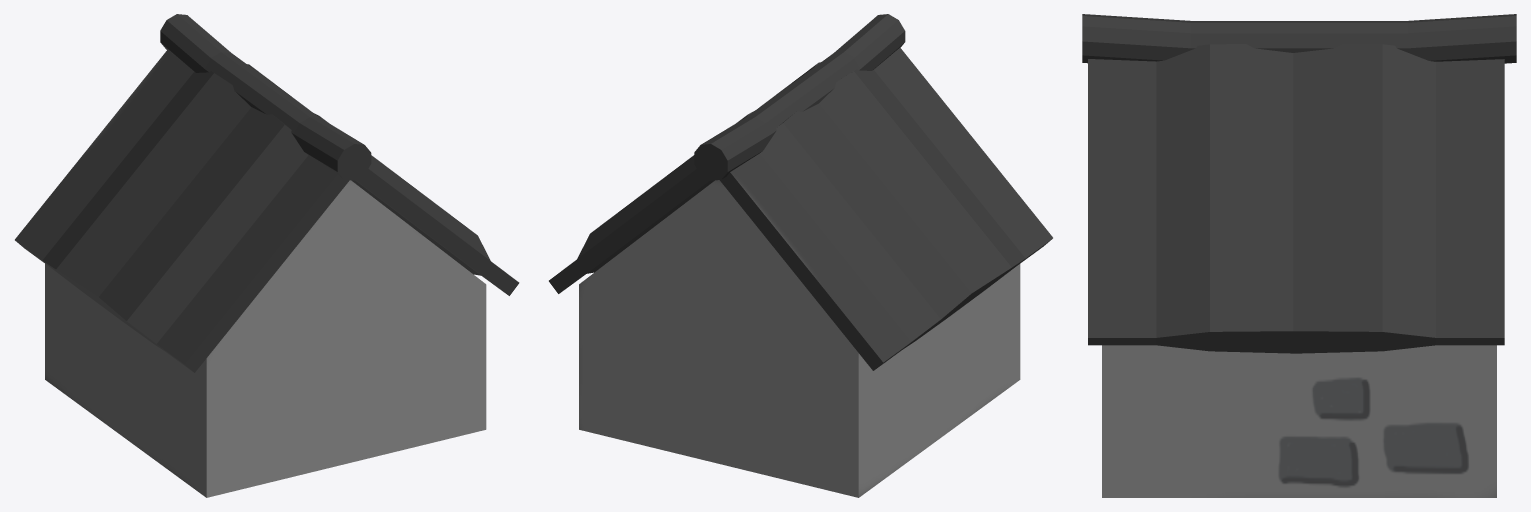
File: simplified_roof_bricks_nofloor.glb
The picture shows the model from 3 angles, left to right: view 1: azimuth 30°, elevation 25°; view 2: azimuth 150°, elevation 25°; view 3: azimuth 270°, elevation 25°; orthographic projection. The views are drawn at different scales.
Parts seen in each view (by area): view 1: Cylinder; view 2: Cylinder; view 3: Cylinder.
Part boxes in pixels (left/top/right/bottom): Cylinder: left=15, top=14, right=519, bottom=497; Cylinder: left=549, top=14, right=1052, bottom=497; Cylinder: left=1082, top=14, right=1516, bottom=497.
Bounding box in the file's own units: 2.51 × 2.23 × 2.2.
Materials: 1 (1 with a texture image).
